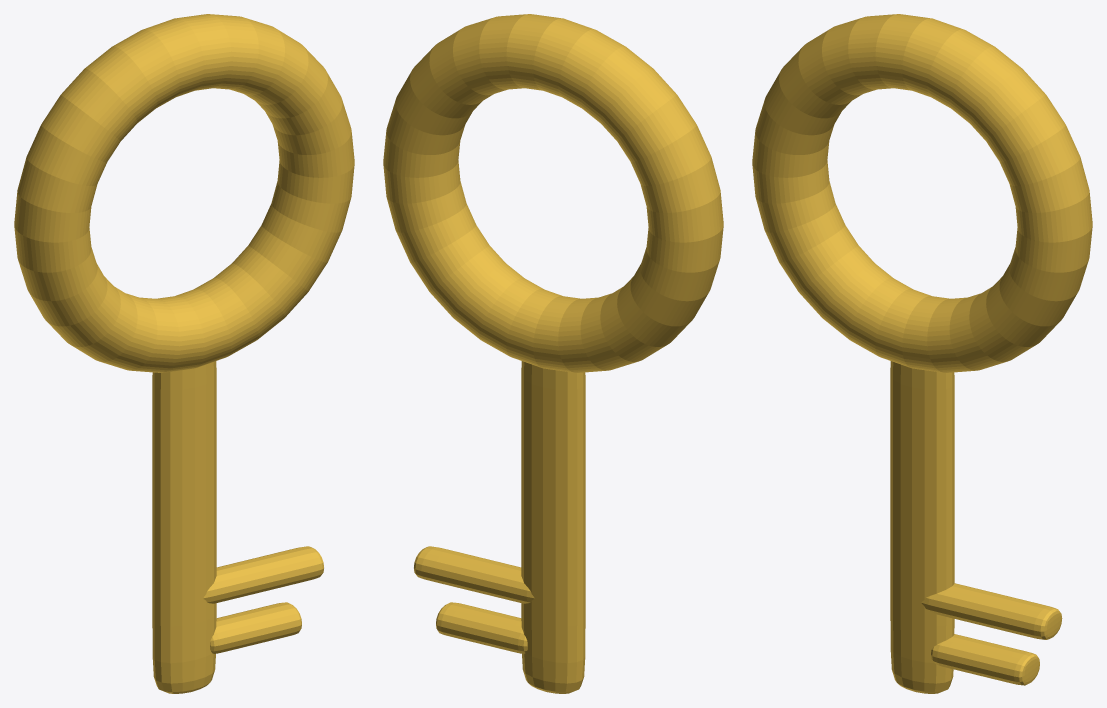
File: key.fbx
3 views of the same model, side by side, from view 1: azimuth 30°, elevation 25°; view 2: azimuth 150°, elevation 25°; view 3: azimuth 330°, elevation 25° (orthographic).
Parts seen in each view (by area): view 1: key_ring, key_bottom; view 2: key_ring, key_bottom; view 3: key_ring, key_bottom.
Boxes of the visible parts, x1,y1,x2,y2 form: key_ring: [14, 14, 354, 372]; key_bottom: [152, 361, 323, 693]; key_ring: [383, 14, 723, 372]; key_bottom: [414, 361, 585, 693]; key_ring: [752, 14, 1092, 372]; key_bottom: [890, 361, 1062, 693].
Size of the model in its own units: 41.54 by 80.64 by 8.88.
